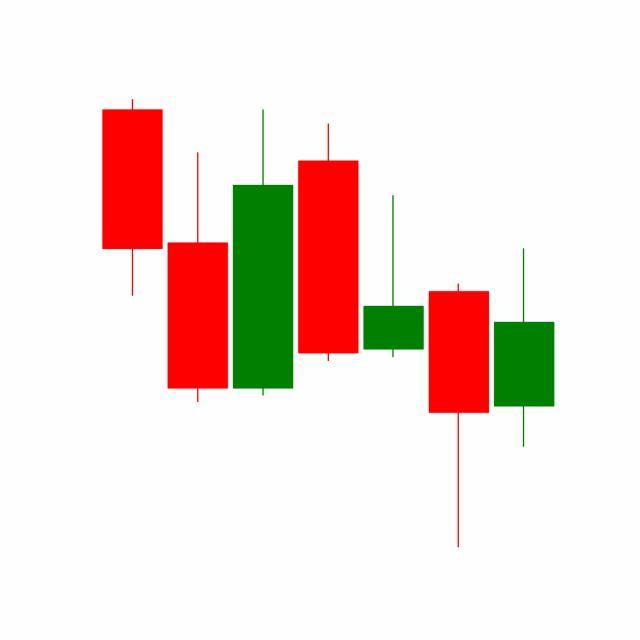Hikkake Pattern: (165, 105, 492, 548)
